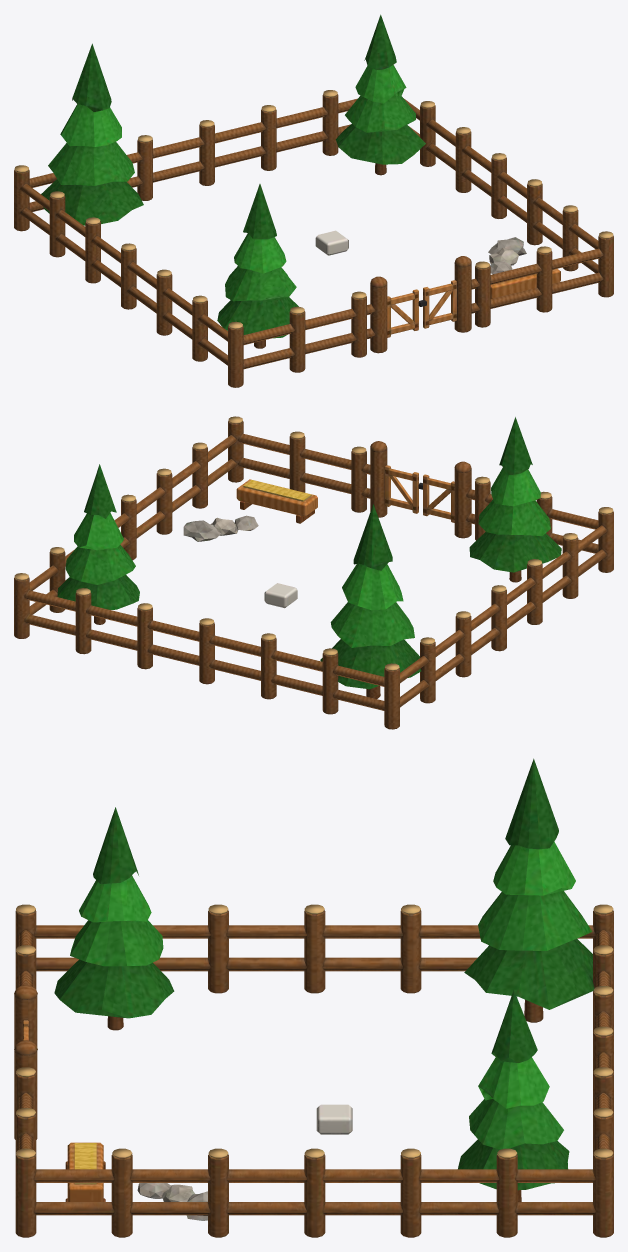
File: moose_woods.glb
The picture shows the model from 3 angles, top to bottom: view 1: azimuth 30°, elevation 25°; view 2: azimuth 150°, elevation 25°; view 3: azimuth 270°, elevation 25°; orthographic projection. The views are drawn at different scales.
Visible parts, largest first — view 1: moose_woods; view 2: moose_woods; view 3: moose_woods.
Boxes of the visible parts, x1,y1,x2,y2 form: moose_woods: [14, 14, 613, 387]; moose_woods: [14, 416, 613, 729]; moose_woods: [14, 758, 613, 1237].
Bounding box in the file's own units: 3 × 1.44 × 3.01.
1 material, 1 textured.
